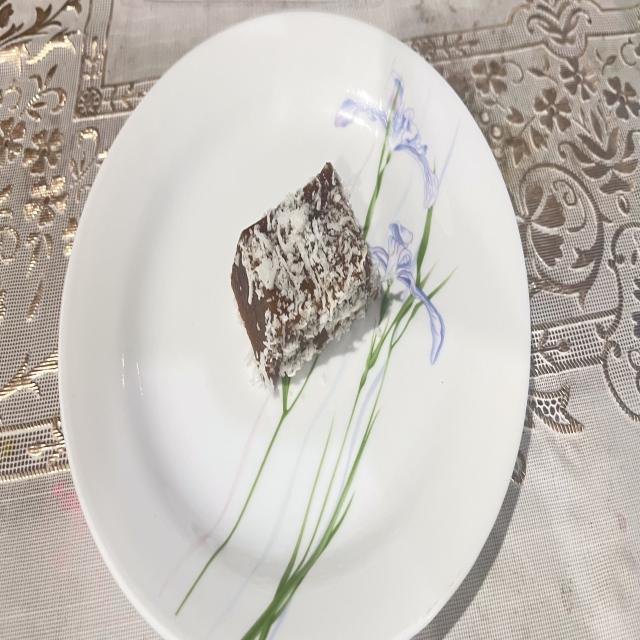kaswi: (231, 162, 381, 382)
